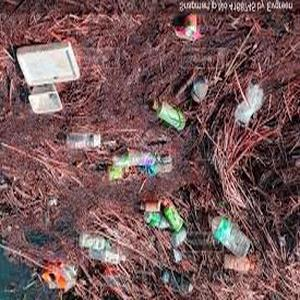Plastic: (209, 213, 254, 256), (152, 99, 187, 130), (77, 227, 116, 250), (86, 248, 127, 267), (220, 255, 257, 275)
